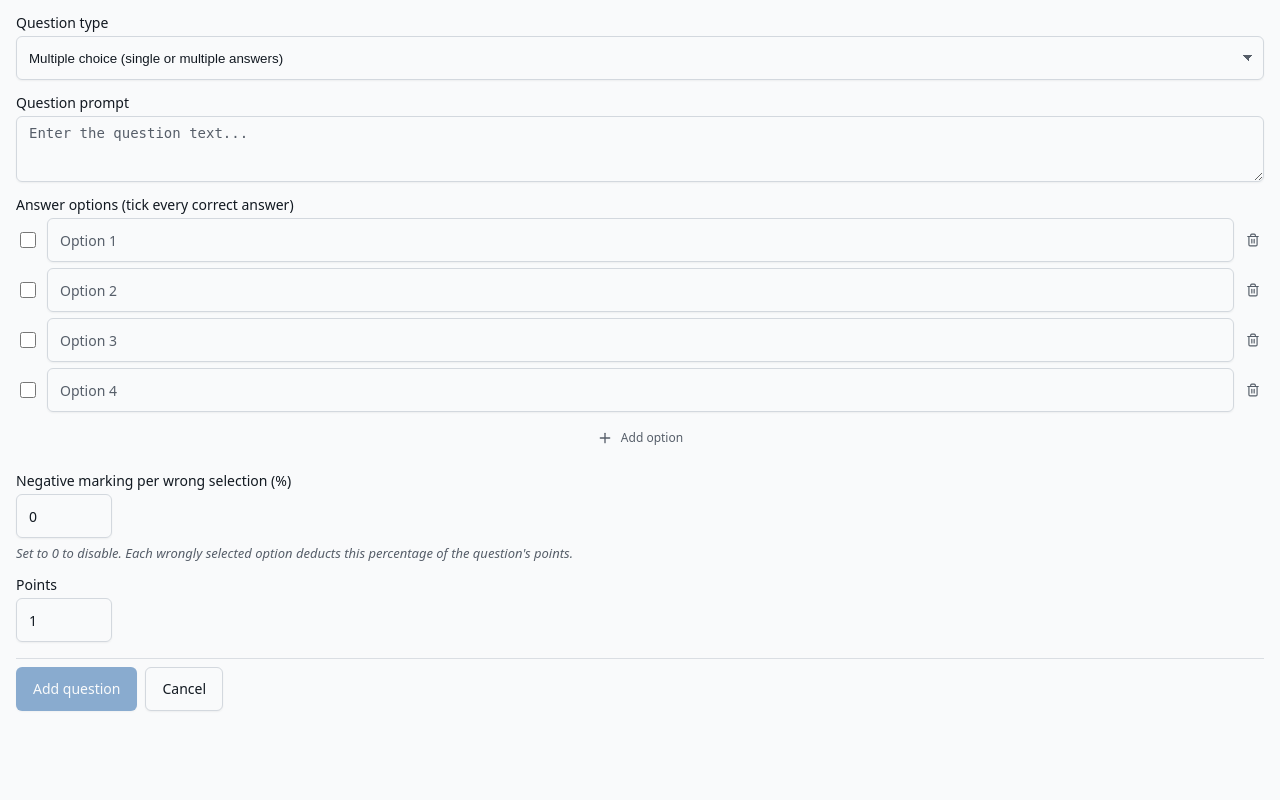
it: QuestionForm — multiple choice › keeps at least two options
The width and height of the screenshot is (1280, 800).
Click the 1st button named "Remove option": (1253, 240) [1242,229,1264,251]
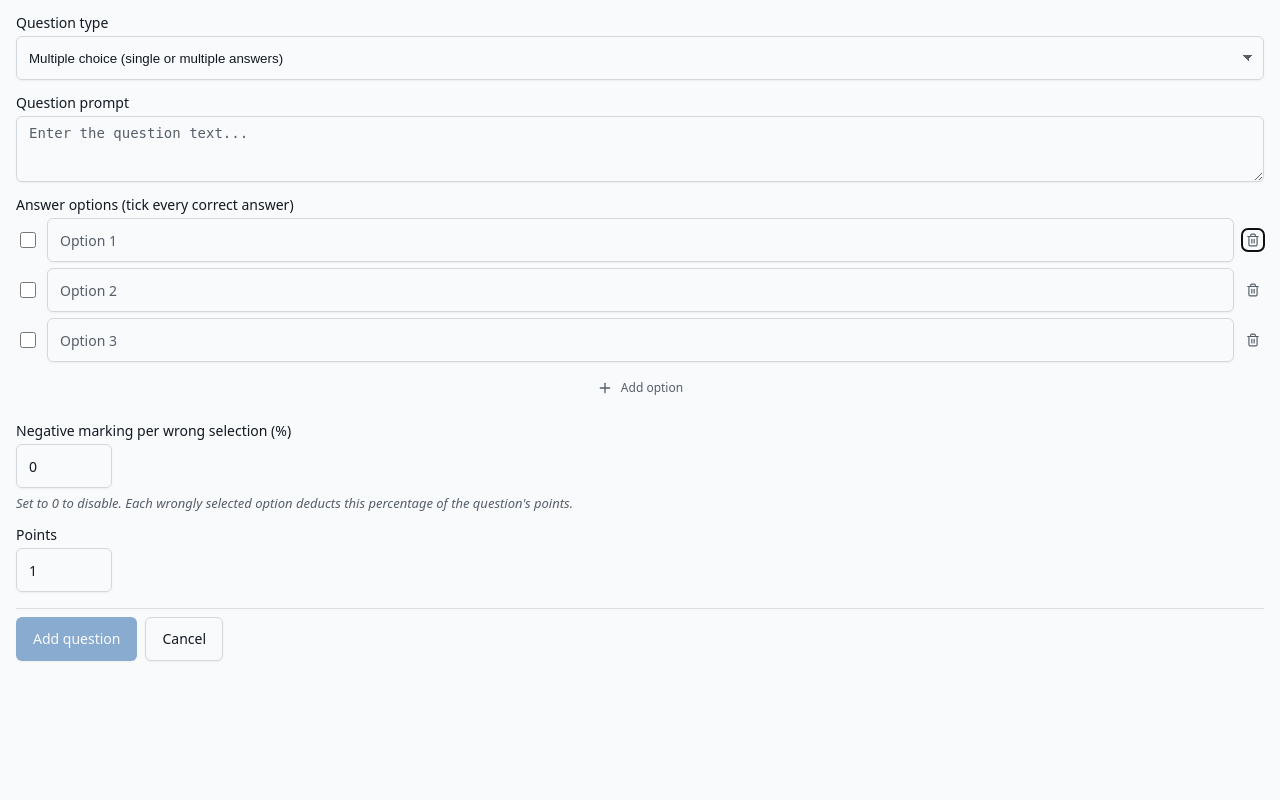
Click the 1st button named "Remove option": (1253, 240) [1242,229,1264,251]
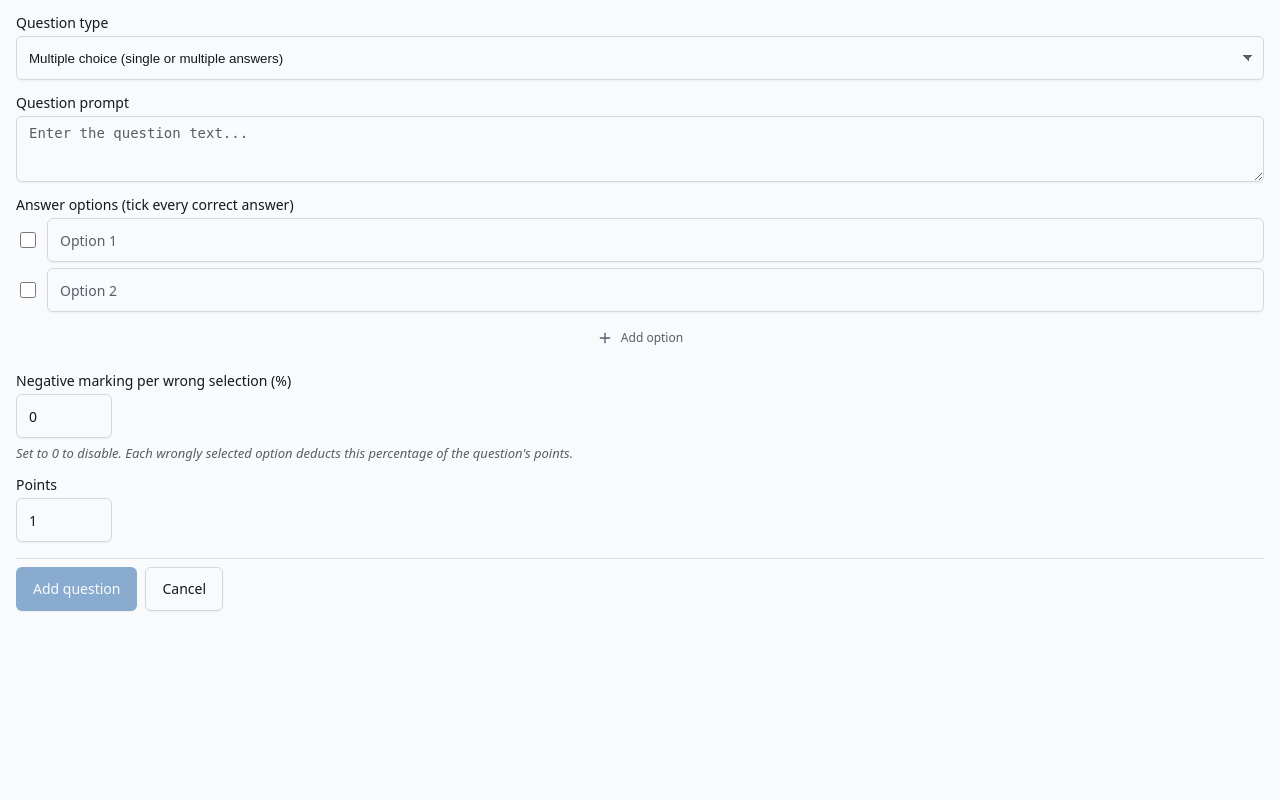
Expected: the number of fields with placeholder "Option 1" is 2, [47,218,1264,262]; [47,268,1264,312]
